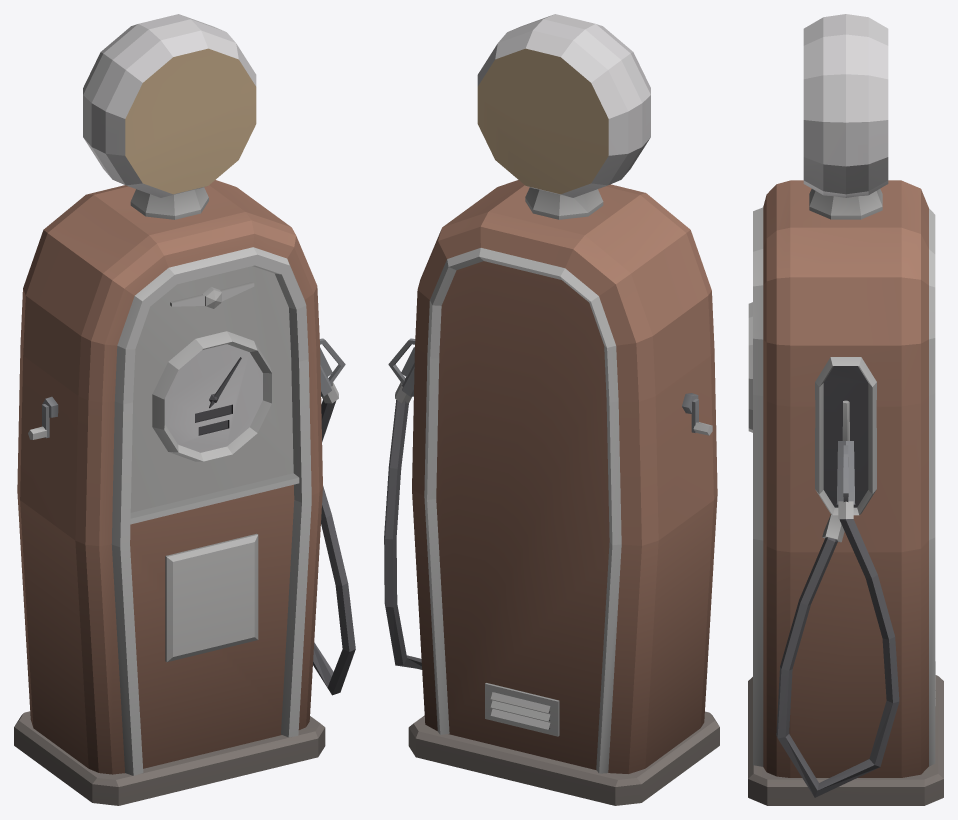
The model's file is pump.glb.
3 renders of one model, left to right at view 1: azimuth 30°, elevation 25°; view 2: azimuth 150°, elevation 25°; view 3: azimuth 270°, elevation 25°, orthographic.
Parts seen in each view (by area): view 1: pump.001; view 2: pump.001; view 3: pump.001.
Boxes of the visible parts, x1,y1,x2,y2 form: pump.001: (14, 14, 355, 805); pump.001: (384, 14, 719, 805); pump.001: (748, 14, 943, 805).
Bounding box in the file's own units: 1.04 × 2.26 × 0.554.
